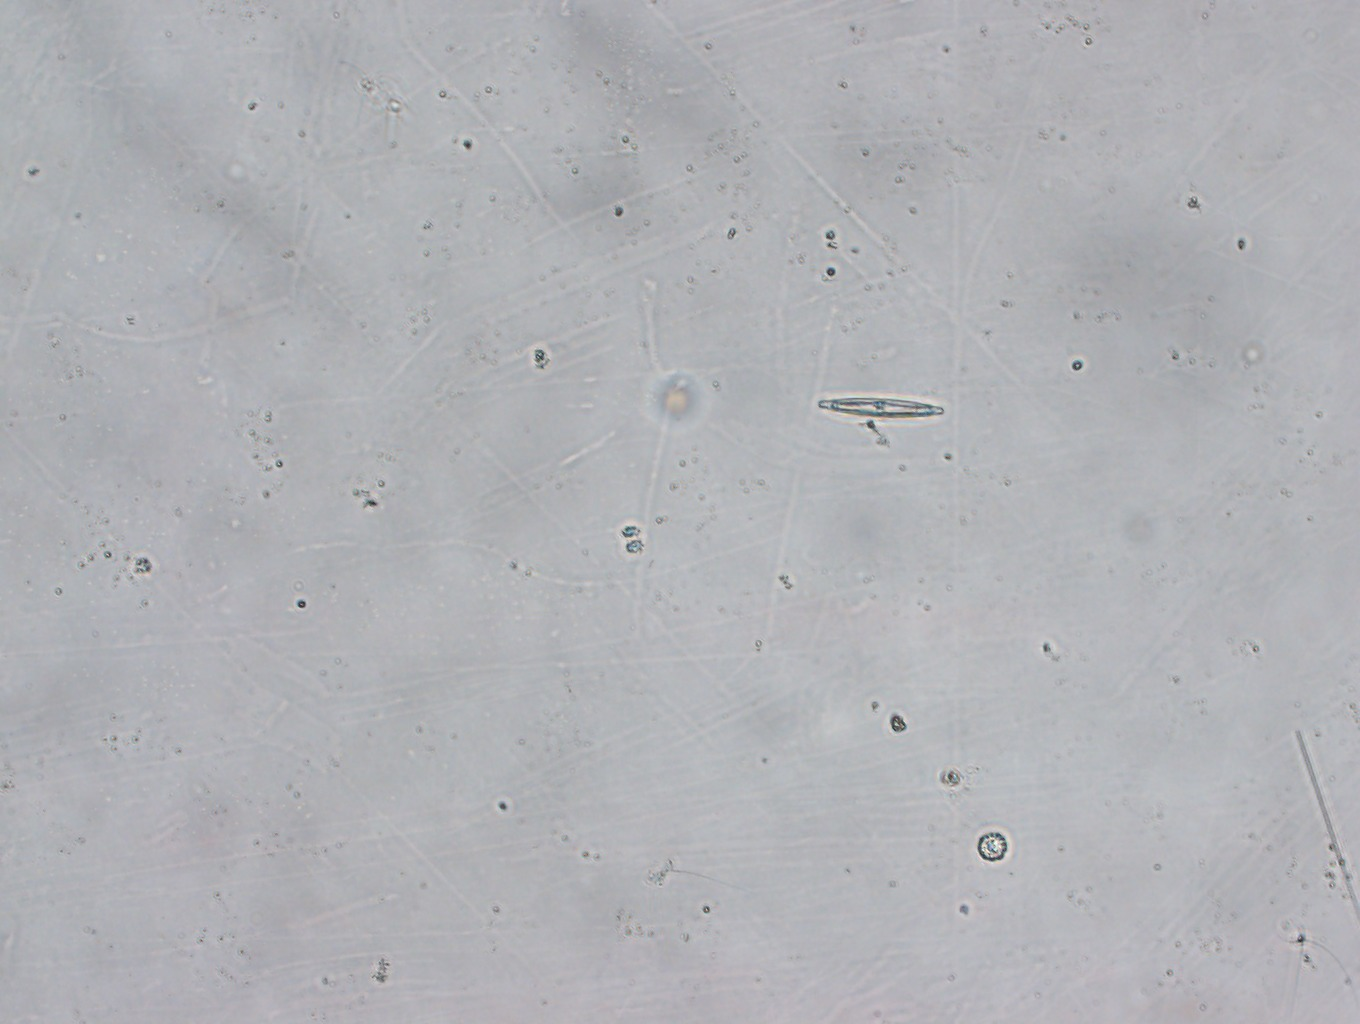navicula: (819, 398, 943, 416)
